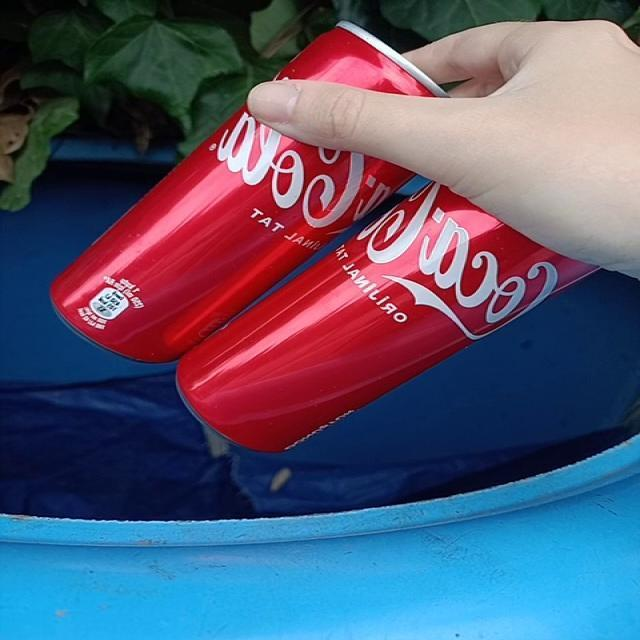Bin: (0, 140, 639, 640)
Metal: (179, 183, 595, 452), (177, 185, 593, 452), (51, 107, 412, 362), (68, 109, 411, 338), (279, 22, 443, 96), (280, 22, 441, 94), (55, 271, 159, 346), (368, 313, 373, 316)
